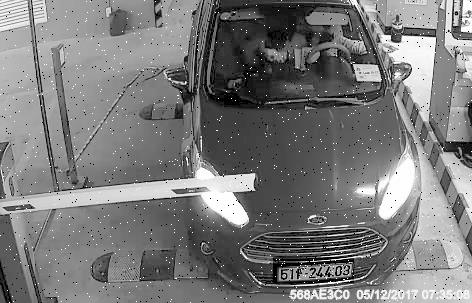License-plate: (274, 258, 355, 284)
